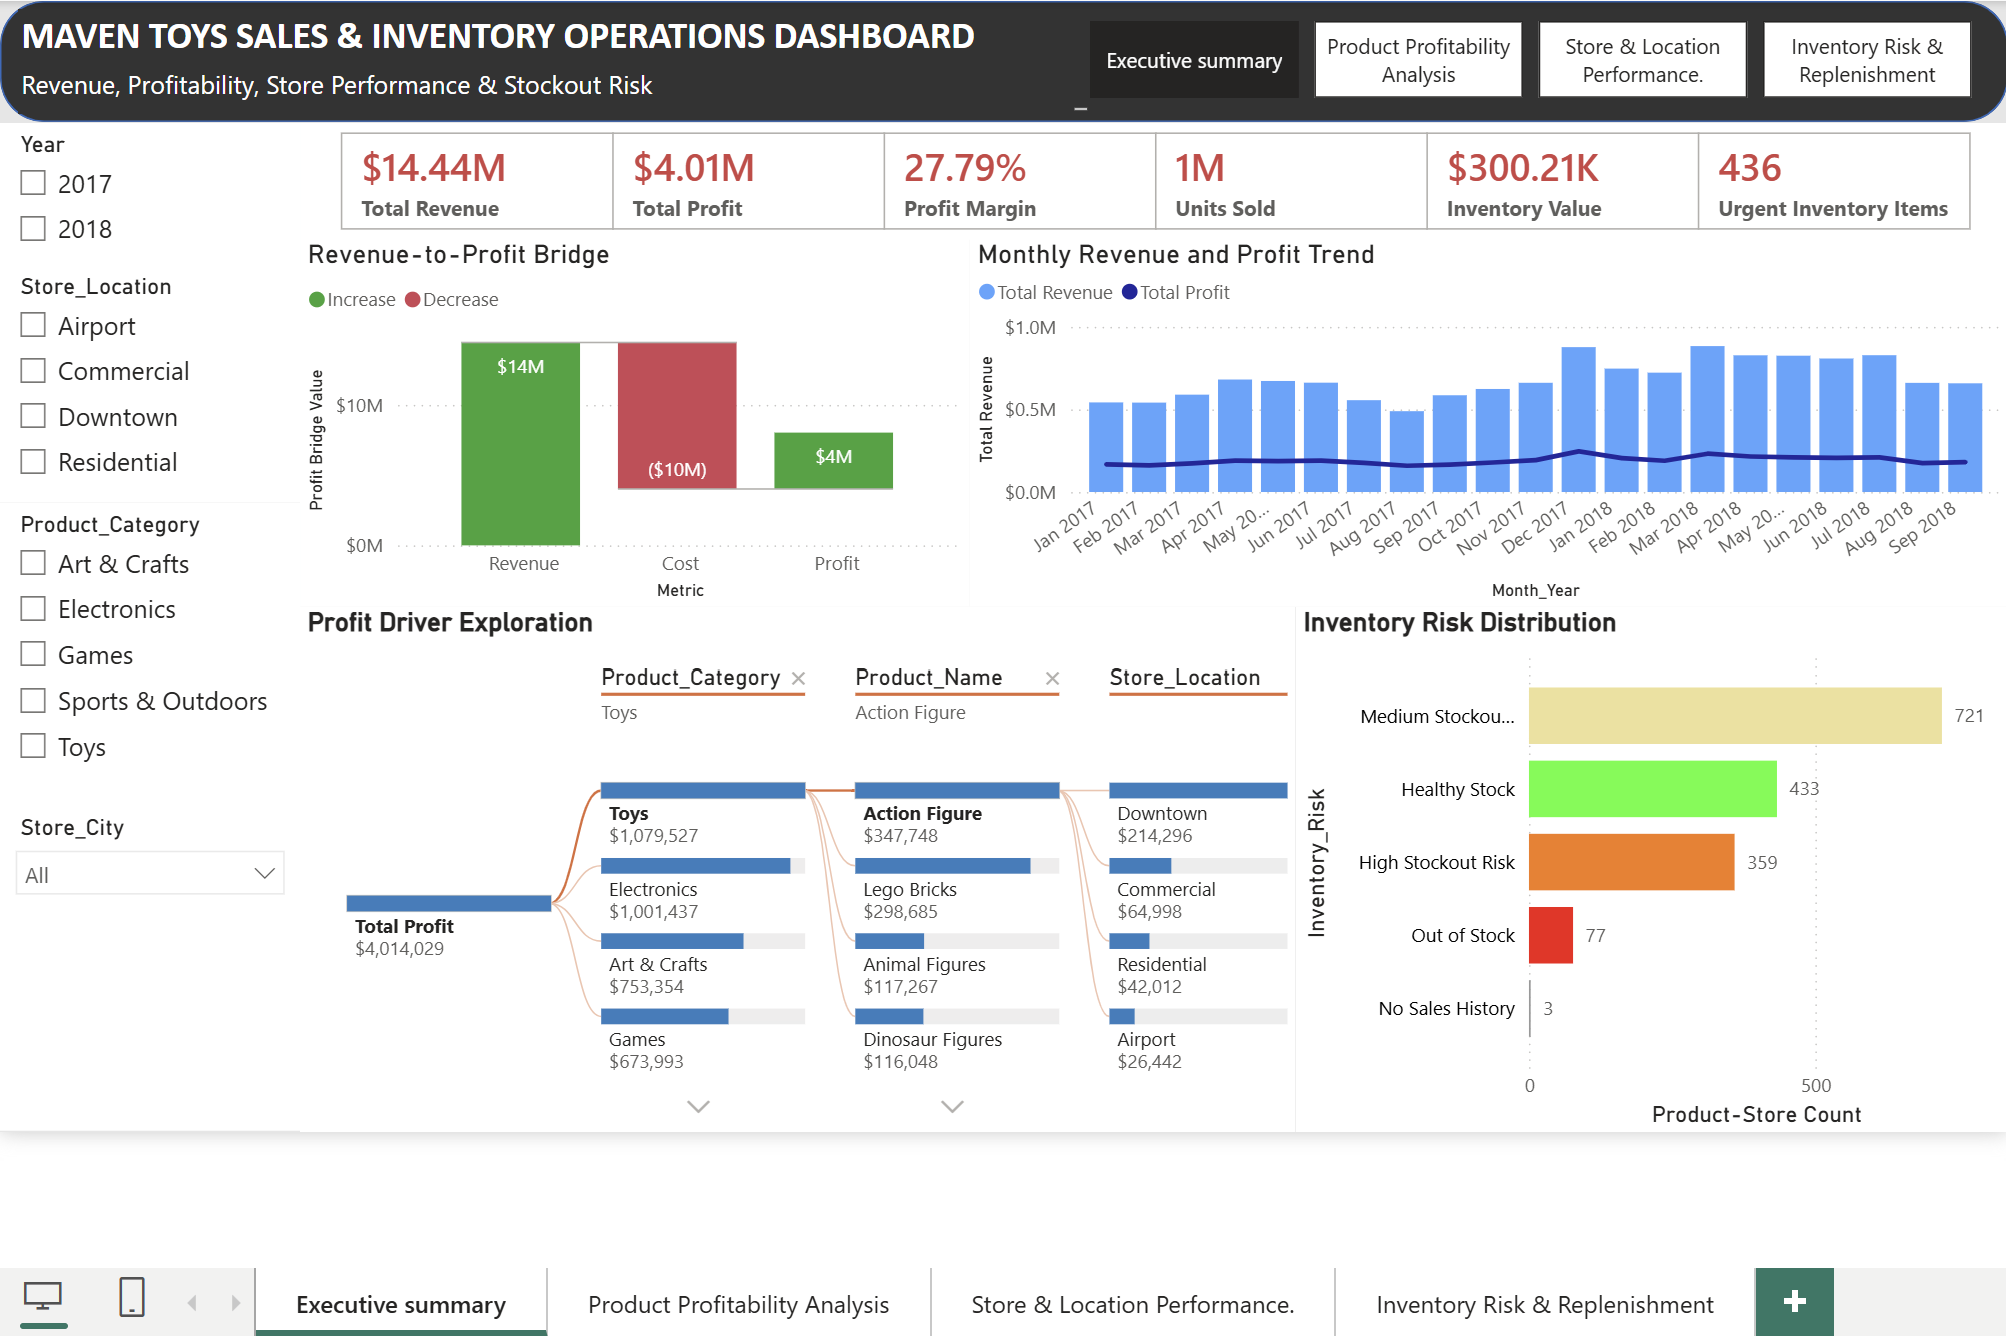

The page's visual inventory and layout, read from the dashboard file:
{"tool":"powerbi","page":{"name":"Executive summary","canvas":[1280,720],"ordinal":0},"visuals":[{"type":"shape","box":[0,0,1280,77.1],"z":0},{"type":"textbox","title":"MAVEN TOYS SALES & INVENTORY OPERATIONS DASHBOARD","box":[11.5,5.1,683.3,66.3],"z":1000},{"type":"slicer","fields":{"Values":["DimStore.Store_City"]},"box":[0,512.9,191.4,207.1],"z":2000},{"type":"slicer","fields":{"Values":["DimStore.Store_Location"]},"box":[0,168.8,191.2,151.2],"z":3000},{"type":"waterfallChart","title":"Revenue-to-Profit Bridge","fields":{"Y":["Profit Bridge.Profit Bridge Value"],"Category":["Profit Bridge.Metric"]},"box":[191.4,151.4,427.1,234.3],"z":4000},{"type":"lineClusteredColumnComboChart","title":"Monthly Revenue and Profit Trend","fields":{"Category":["DimDate.Month_Year"],"Y":["vw_sales_profit.Total Revenue"],"Y2":["vw_sales_profit.Total Profit"]},"box":[618.6,151.4,661.4,234.3],"z":5000},{"type":"cardVisual","fields":{"Data":["vw_sales_profit.Total Revenue","vw_sales_profit.Total Profit","vw_sales_profit.Profit Margin","vw_sales_profit.Units Sold","vw_inventory_risk.Inventory Value","vw_inventory_risk.Urgent Inventory Items"]},"box":[191.4,77.1,1091.4,74.3],"z":6000},{"type":"slicer","fields":{"Values":["DimDate.Year"]},"box":[0,77.5,191.2,91.2],"z":7000},{"type":"slicer","fields":{"Values":["DimProduct.Product_Category"]},"box":[0,320,191.2,192.5],"z":8000},{"type":"decompositionTreeVisual","title":"Profit Driver Exploration","fields":{"Analyze":["vw_sales_profit.Total Profit"],"ExplainBy":["DimProduct.Product_Category","DimProduct.Product_Name","DimStore.Store_Location","DimStore.Store_City","DimStore.Store_Name"]},"box":[191.4,385.7,634.3,335.7],"z":9000},{"type":"clusteredBarChart","title":"Inventory Risk Distribution","fields":{"Category":["vw_inventory_risk.Inventory_Risk"],"Y":["vw_inventory_risk.Product-Store Count"]},"box":[825.7,385.7,454.3,335.7],"z":10000},{"type":"pageNavigator","box":[694.8,12.7,562.2,49.7],"z":11000}]}

Visuals, with their boxes on the page's 1280x720 design canvas (x1, y1, x2, y2). These are canvas units, not pixel positions in the 2006x1336 screenshot, which may show the page scaled, cropped or inside an application window:
shape: [0,0,1280,77]
"MAVEN TOYS SALES & INVENTORY OPERATIONS DASHBOARD" textbox: [12,5,695,71]
slicer - DimStore.Store_City: [0,513,191,720]
slicer - DimStore.Store_Location: [0,169,191,320]
"Revenue-to-Profit Bridge" waterfallChart: [191,151,618,386]
"Monthly Revenue and Profit Trend" lineClusteredColumnComboChart: [619,151,1280,386]
cardVisual - vw_sales_profit.Total Revenue x vw_sales_profit.Total Profit: [191,77,1283,151]
slicer - DimDate.Year: [0,78,191,169]
slicer - DimProduct.Product_Category: [0,320,191,512]
"Profit Driver Exploration" decompositionTreeVisual: [191,386,826,721]
"Inventory Risk Distribution" clusteredBarChart: [826,386,1280,721]
pageNavigator: [695,13,1257,62]
